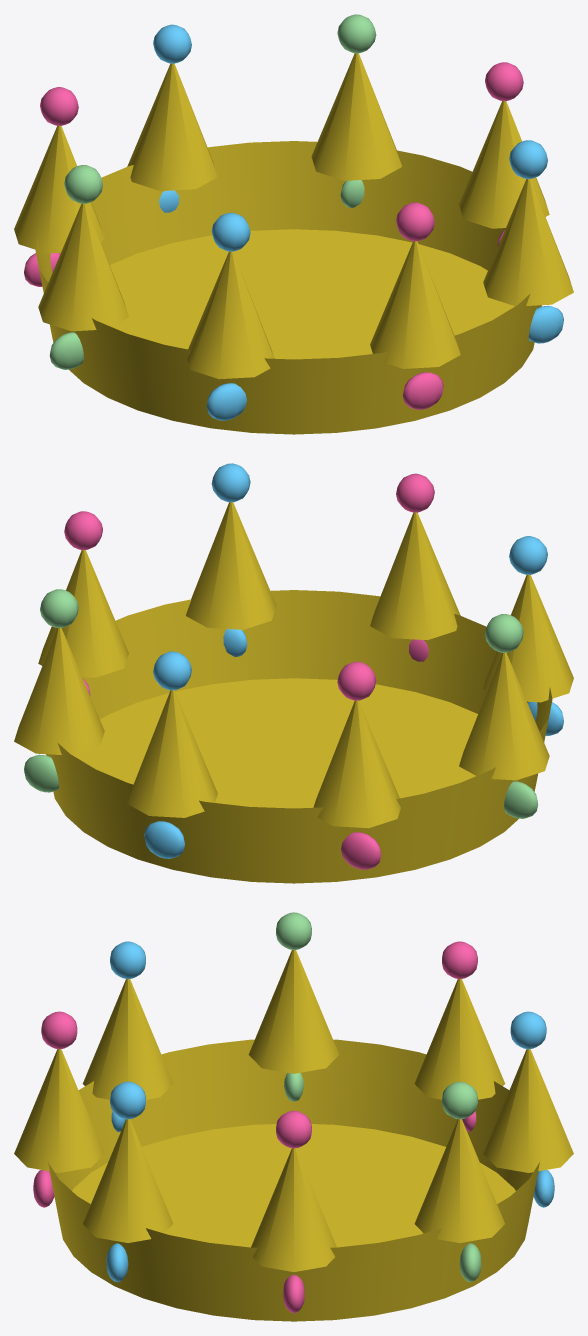
Rendered from crown.glb.
The picture shows the model from 3 angles, top to bottom: view 1: azimuth 30°, elevation 25°; view 2: azimuth 150°, elevation 25°; view 3: azimuth 270°, elevation 25°; orthographic projection. The views are drawn at different scales.
Parts seen in each view (by area): view 1: gold, gems; view 2: gold, gems; view 3: gold, gems.
Part boxes in pixels (bbox=[...]): gold: bbox=[14, 53, 573, 434]; gems: bbox=[24, 14, 563, 420]; gold: bbox=[14, 502, 573, 883]; gems: bbox=[24, 463, 563, 869]; gold: bbox=[14, 950, 573, 1321]; gems: bbox=[33, 912, 554, 1312].
Bounding box in the file's own units: 1.48 × 0.61 × 1.48.
